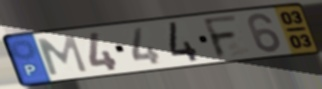4: (87, 29, 121, 72), (168, 21, 200, 64), (129, 26, 163, 66)
6: (245, 11, 284, 54)
F: (200, 13, 241, 60)
M: (35, 33, 91, 77)
